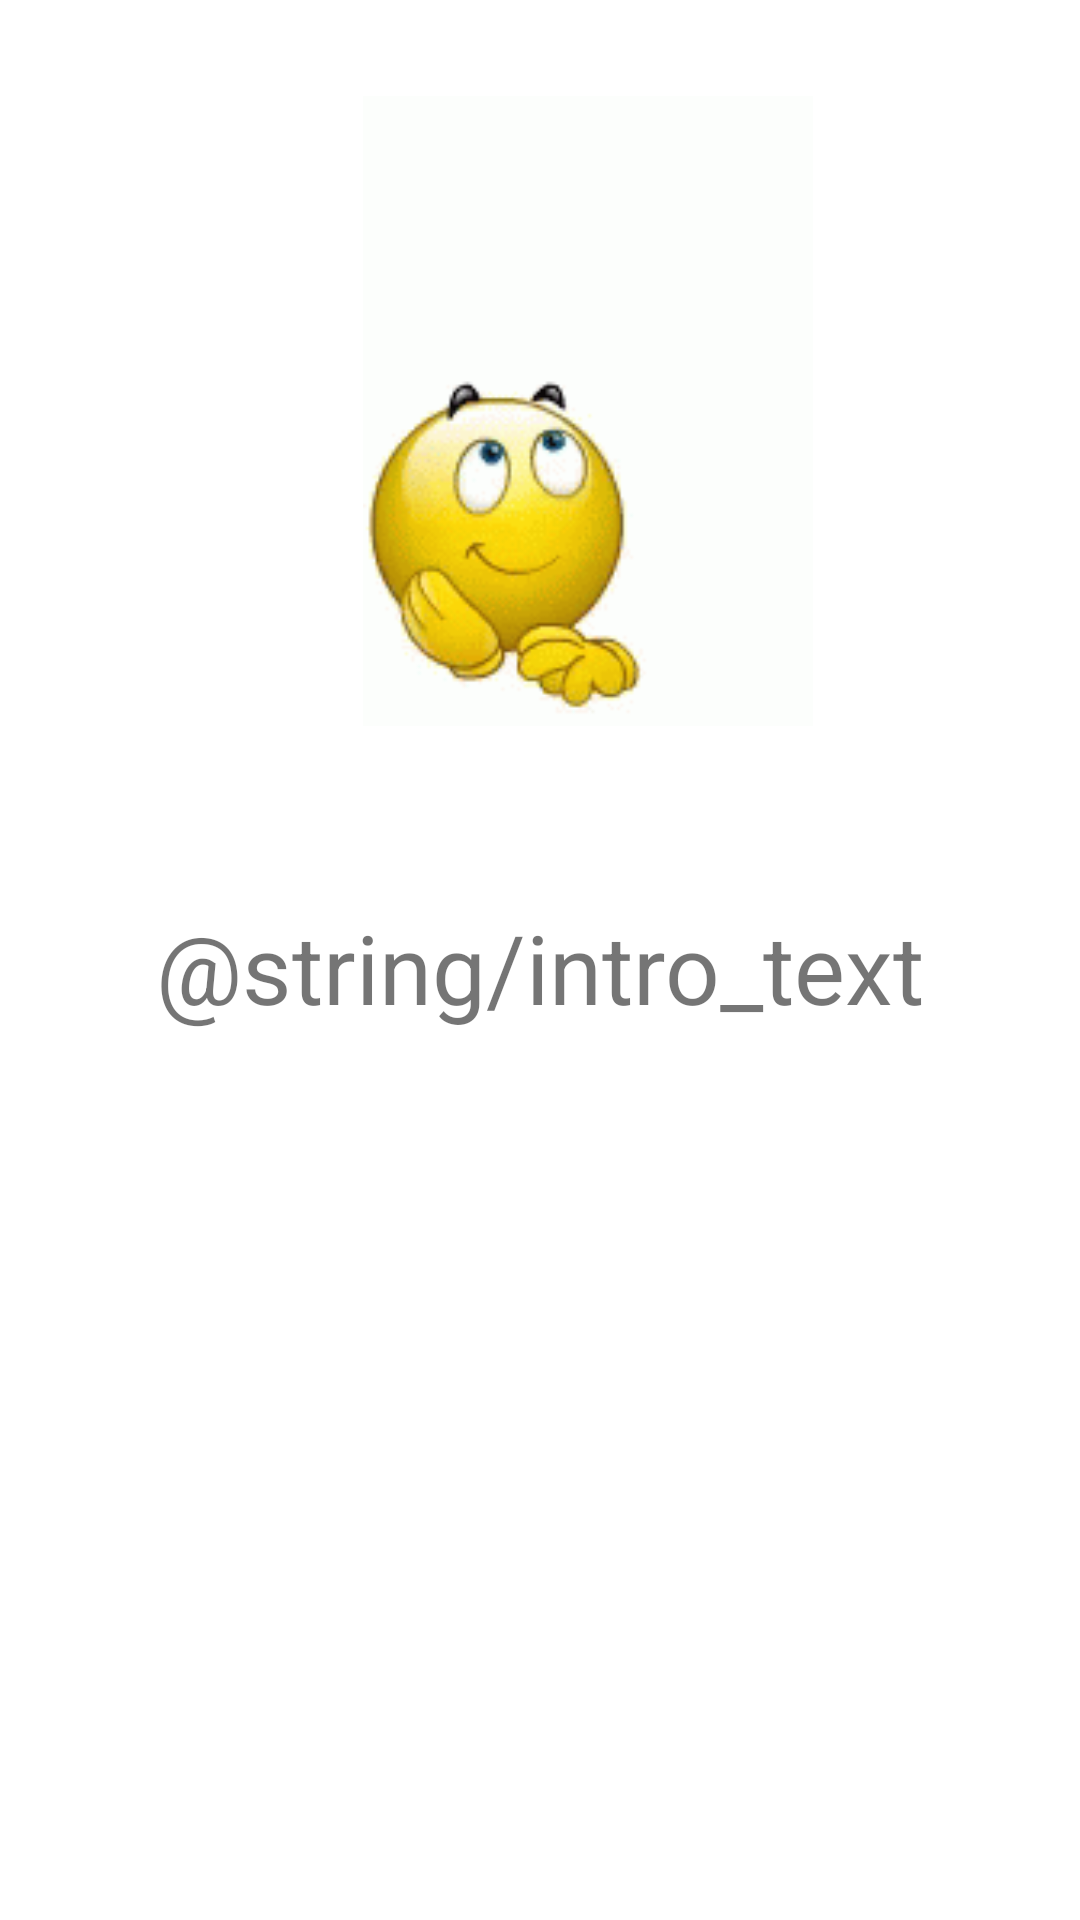

Where to tap for icons on this 1080px x 1920px app screen, as [x,y]:
emoji remembering: [504,545]
